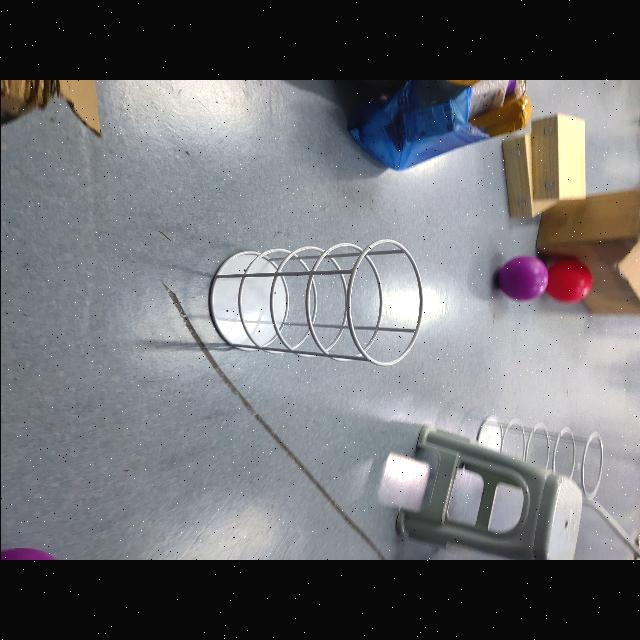S: (205, 234, 425, 374)
